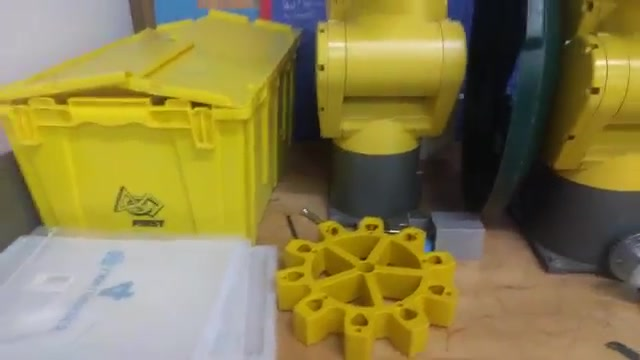gear: (271, 211, 459, 358)
